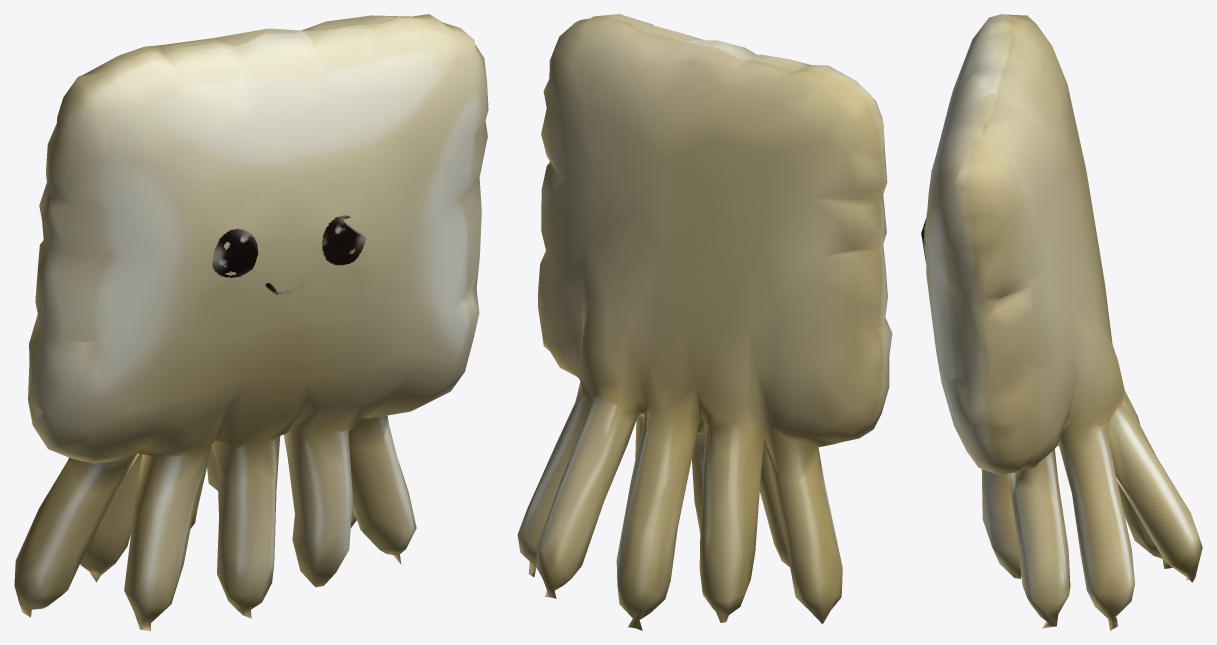
The model's file is happy_ghast_single_1500.glb.
The picture shows the model from 3 angles, left to right: view 1: azimuth 30°, elevation 25°; view 2: azimuth 150°, elevation 25°; view 3: azimuth 270°, elevation 25°; orthographic projection. The views are drawn at different scales.
Bounding box in the file's own units: 0.6104 × 0.8436 × 0.4283.
Materials: 1 (1 with a texture image).
